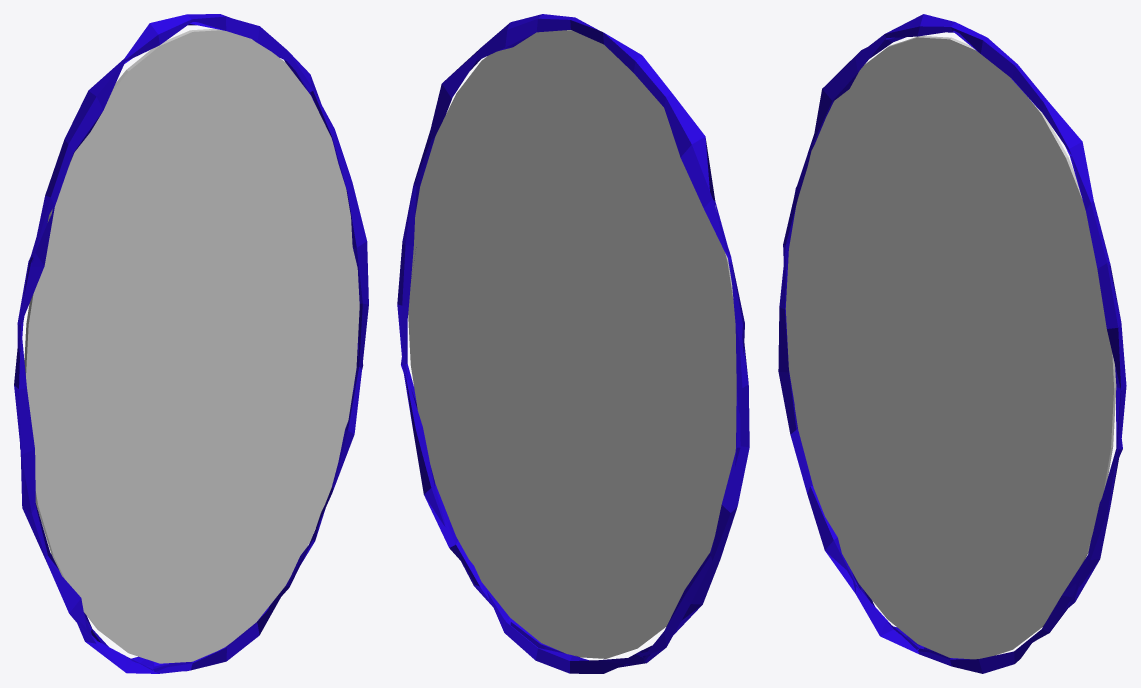
Rendered from Portal.fbx.
3 views of the same model, side by side, from view 1: azimuth 30°, elevation 25°; view 2: azimuth 150°, elevation 25°; view 3: azimuth 330°, elevation 25° (orthographic).
Parts seen in each view (by area): view 1: PortalInner; view 2: PortalInner; view 3: PortalInner.
Boxes of the visible parts, x1,y1,x2,y2 form: PortalInner: [14, 14, 368, 673]; PortalInner: [397, 14, 749, 673]; PortalInner: [778, 14, 1126, 673].
Size of the model in its own units: 99.1 by 178 by 6.43.
